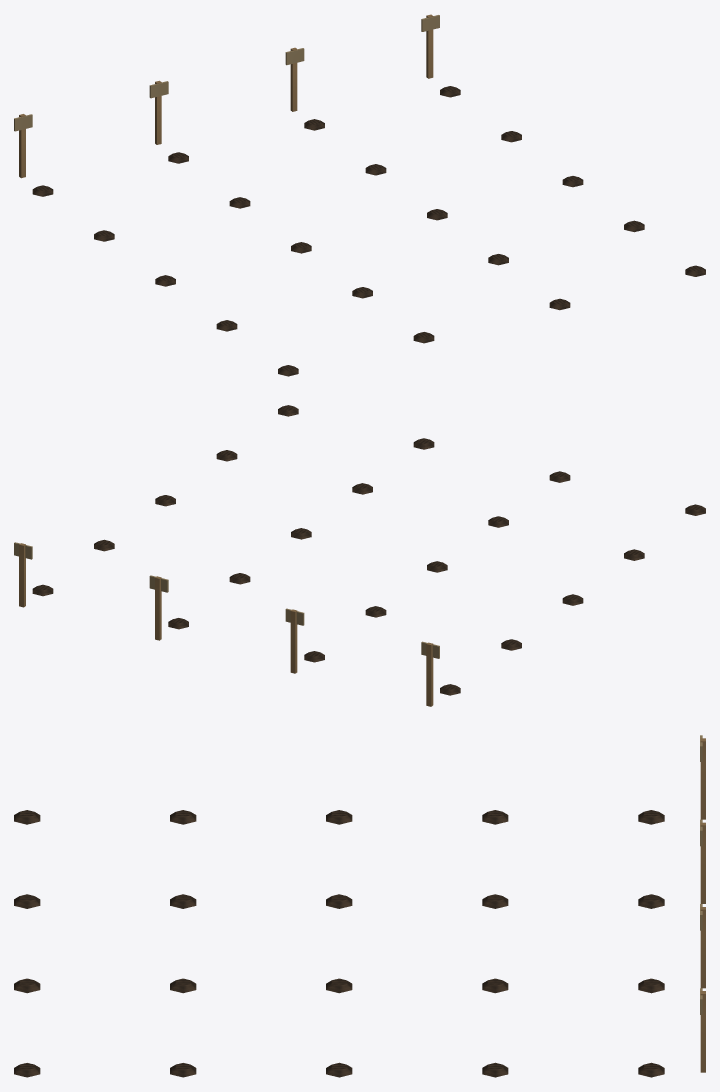
File: crop_sown.fbx
3 renders of one model, top to bottom at view 1: azimuth 30°, elevation 25°; view 2: azimuth 150°, elevation 25°; view 3: azimuth 270°, elevation 25°, orthographic. The views are drawn at different scales.
Visible parts, largest first — view 1: crop_sown; view 2: crop_sown; view 3: crop_sown.
Part boxes in pixels (left/top/right/bottom): crop_sown: left=14, top=14, right=705, bottom=376; crop_sown: left=14, top=405, right=705, bottom=706; crop_sown: left=14, top=735, right=705, bottom=1077.
Size of the model in its own units: 1.45 by 0.2 by 1.6.
1 material, 1 textured.
